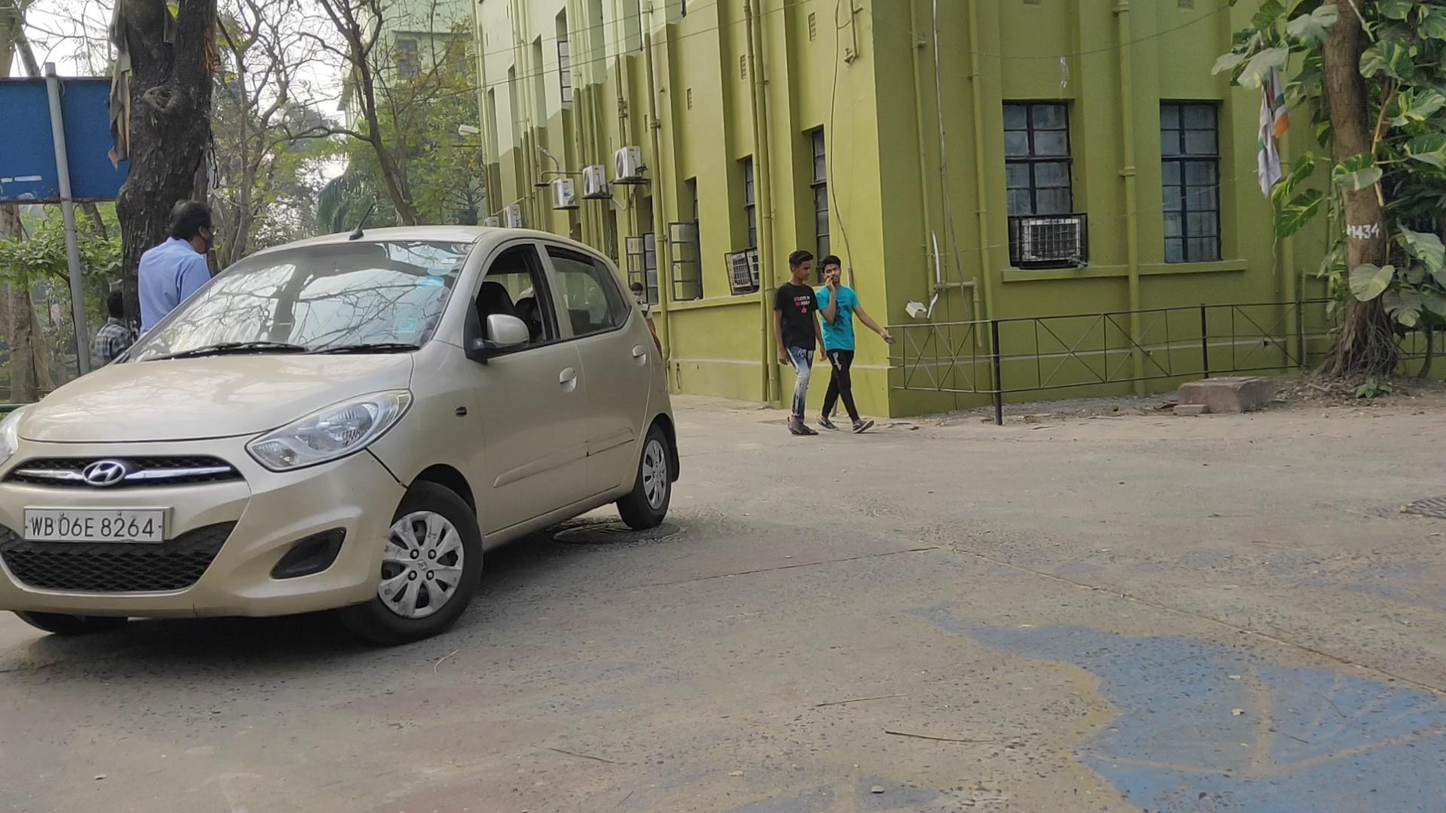car: (2, 223, 679, 643)
